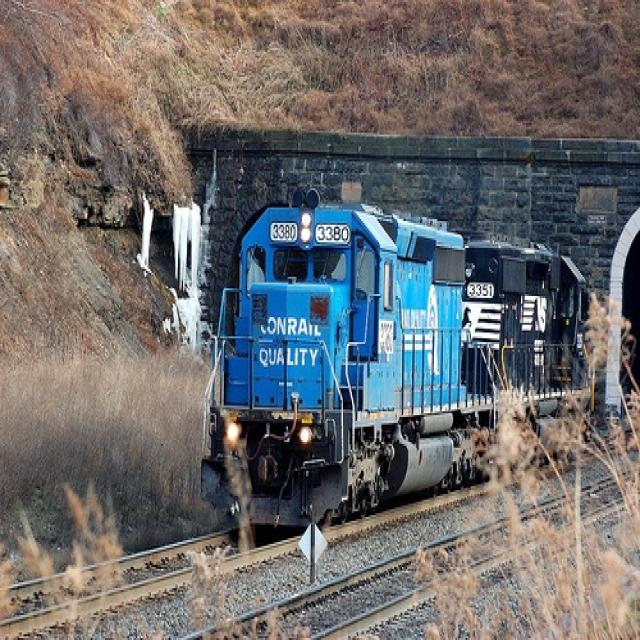train: (200, 200, 595, 530)
